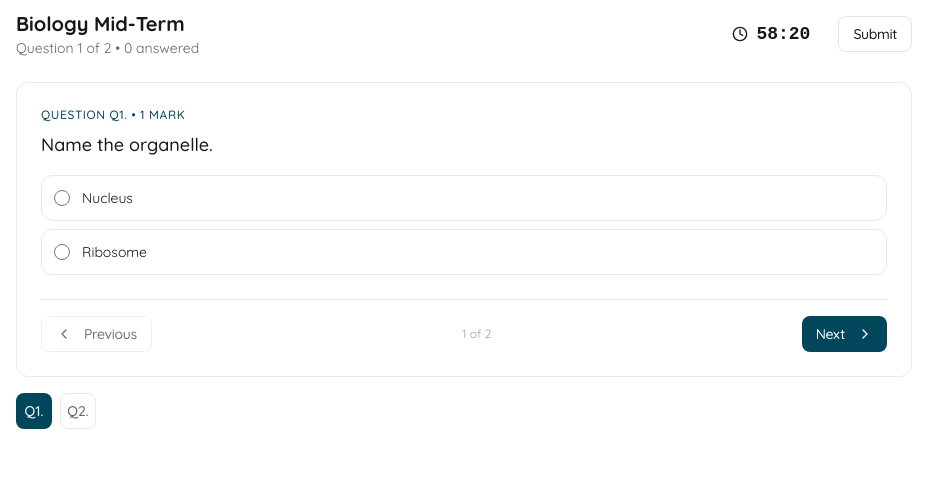
Test: AssessmentTake with no network › does not rewrite an answer that has not changed
Expected: the text "Name the organelle." is shown, [41,133,213,156]
Click the text "Nucleus". click: (107, 198)
box: [82,188,133,208]
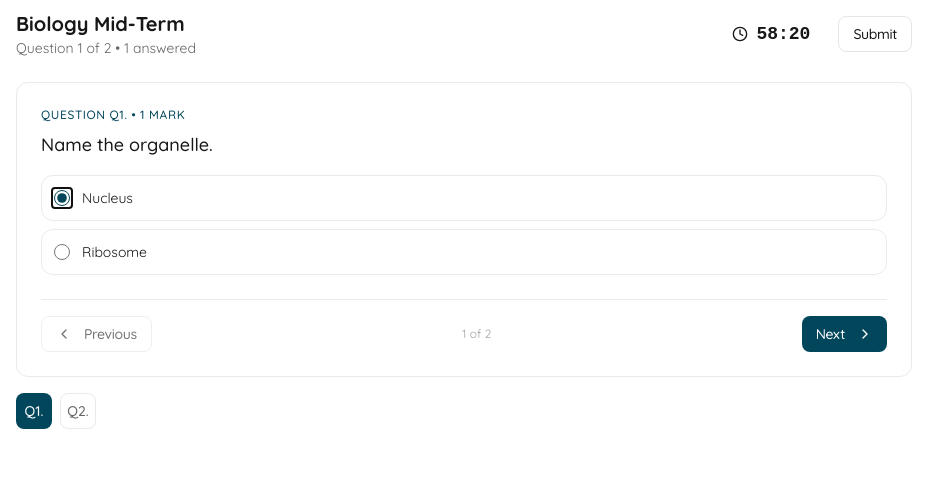
Click the button "Next". click: (844, 334)
box: [802,316,887,352]
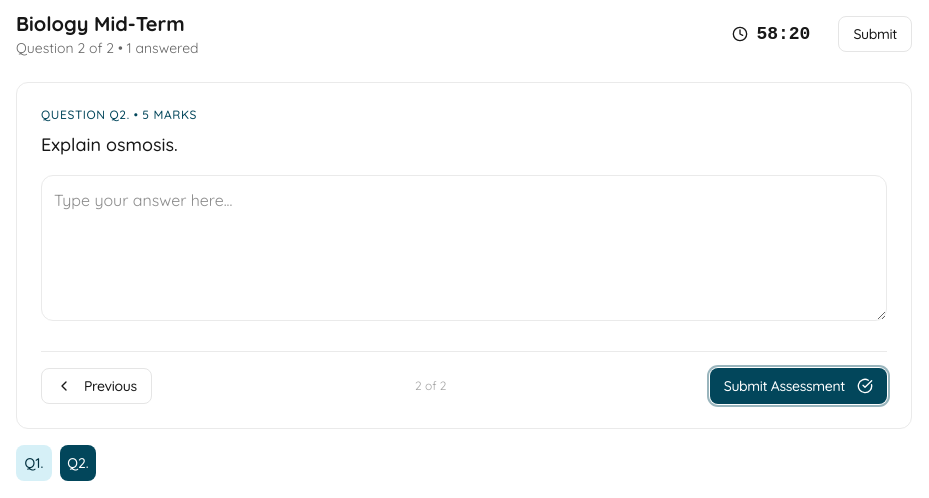
Expected: the text "Explain osmosis." is shown, [41,133,178,156]
